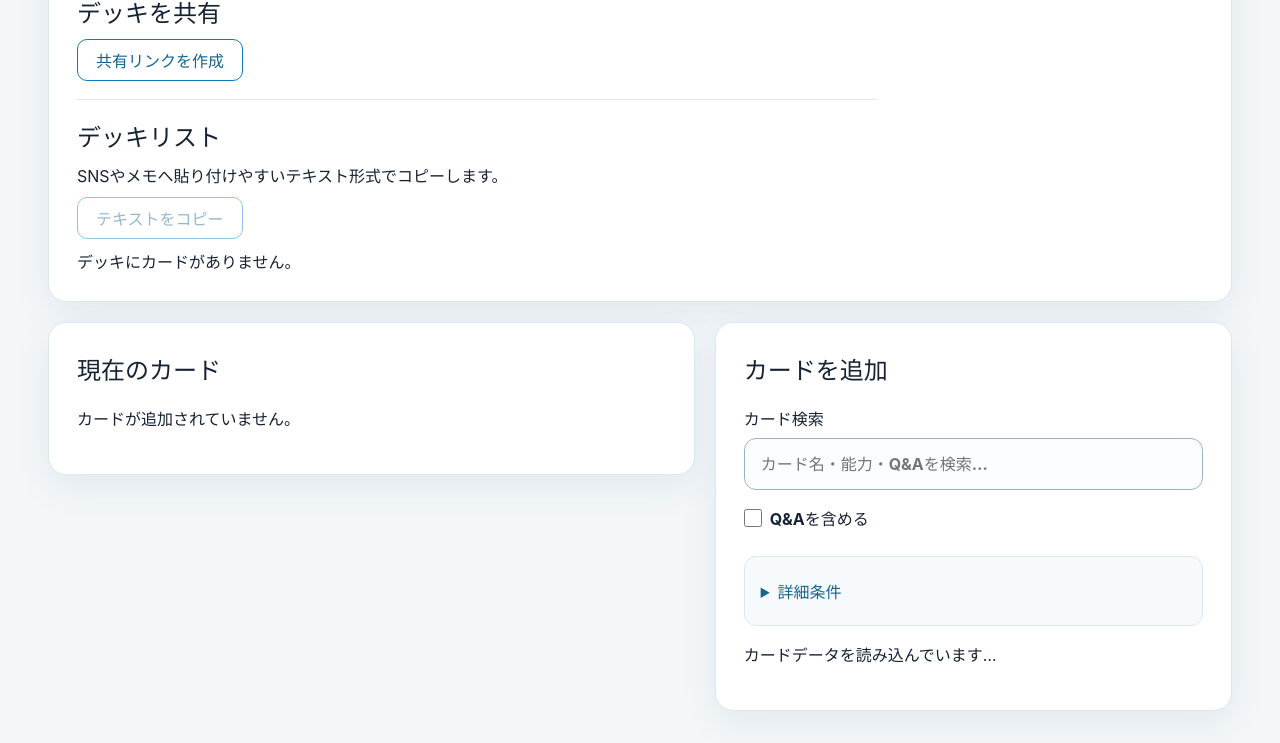
Test: DeckEditPage editor operations › reuses searchCards and adds duplicate logical cards by quantity
(page scrolled)
Type "赤い" into the field labelled "カード検索" at (973, 464), box [744,438,1203,490]
(page scrolled)
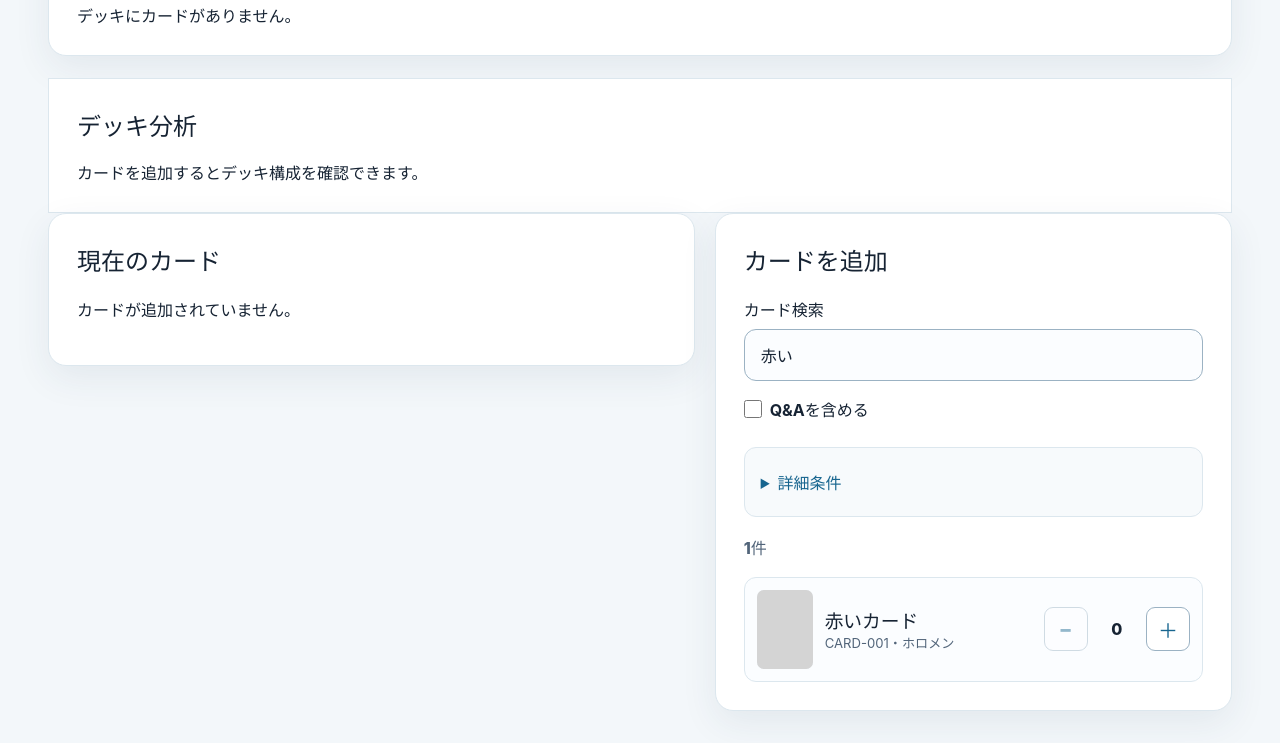
expect the heading "赤いカード" is shown: met, box [825,610,918,633]
Click the button named "赤いカードを1枚追加" at (1168, 629), box [1146,607,1190,651]
(page scrolled)
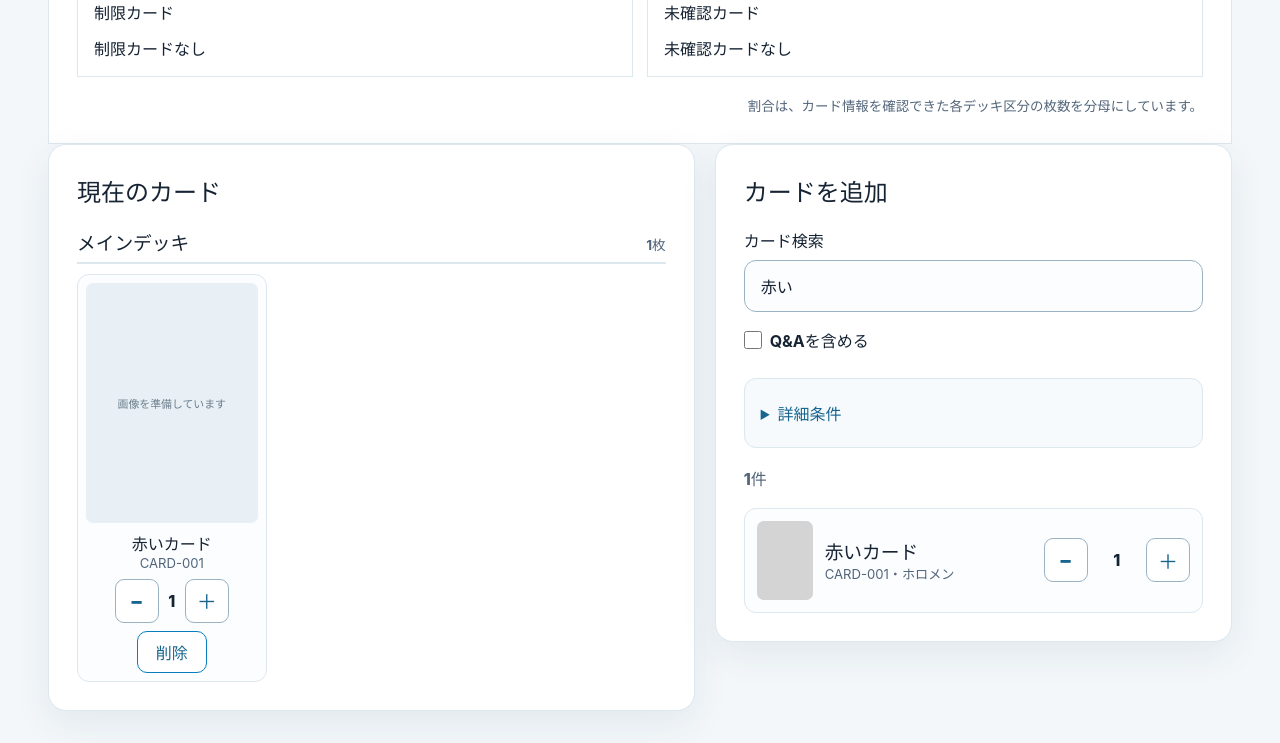
Click the button named "赤いカードを1枚追加" at (1168, 560), box [1146,538,1190,582]
(page scrolled)
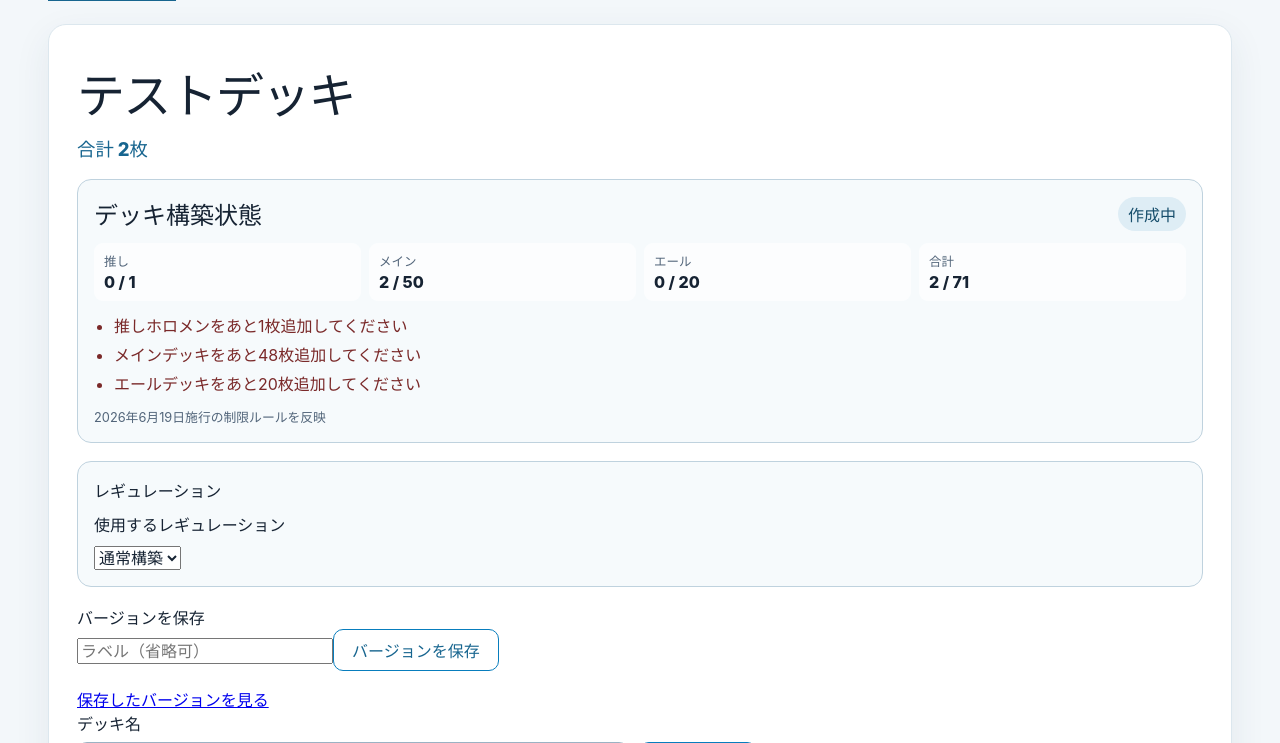
expect the text "合計 2枚" is shown: met, box [77,138,148,160]
